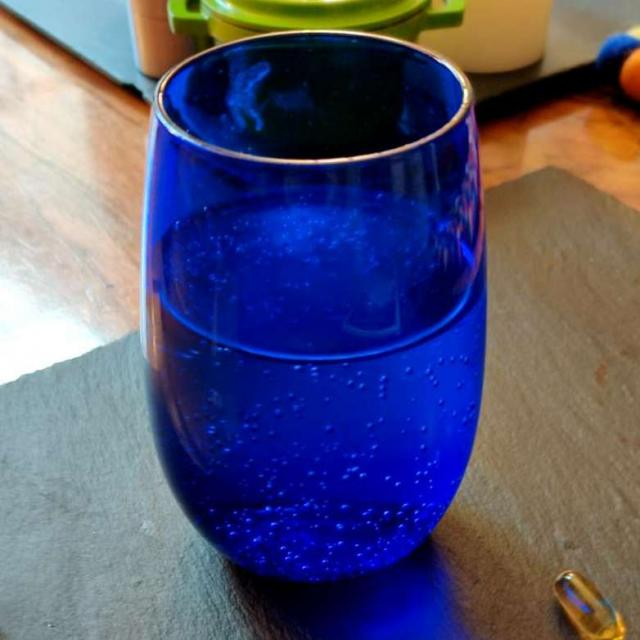water-mineral: (139, 188, 473, 585)
